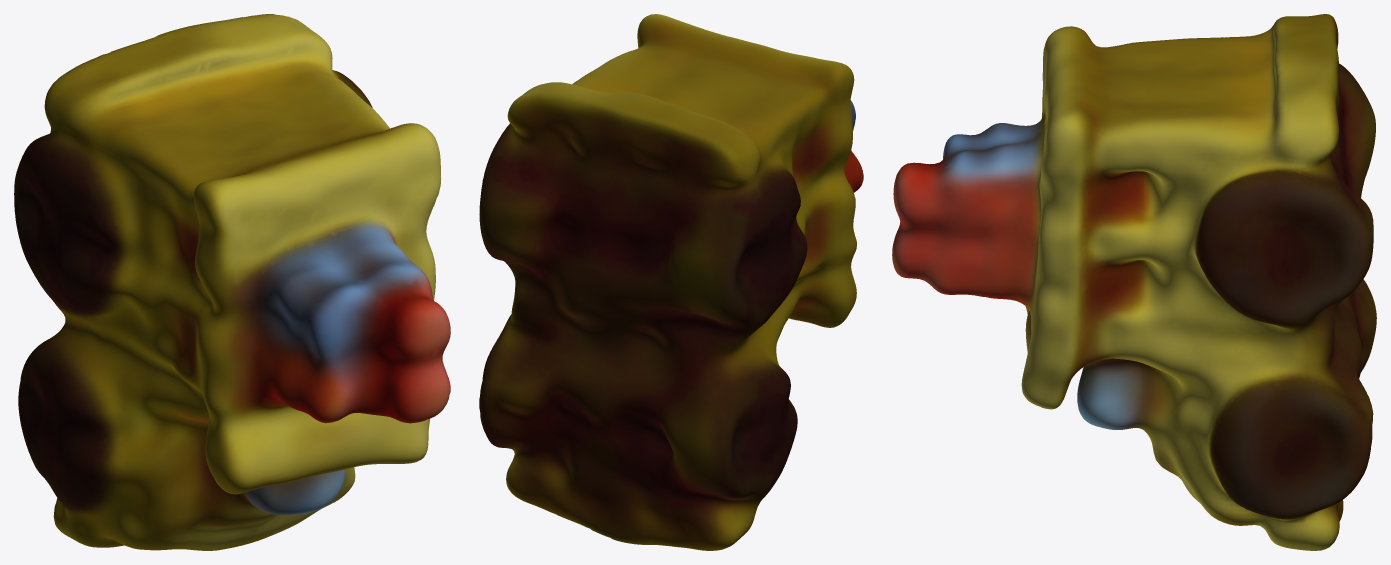
File: school_bus2.glb
3 views of the same model, side by side, from view 1: azimuth 30°, elevation 25°; view 2: azimuth 150°, elevation 25°; view 3: azimuth 270°, elevation 25° (orthographic). The views are drawn at different scales.
Bounding box in the file's own units: 0.6638 × 0.9998 × 0.9531.
